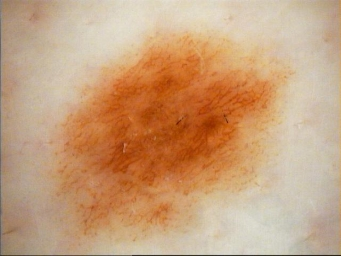nevus: (62, 48, 270, 229)
